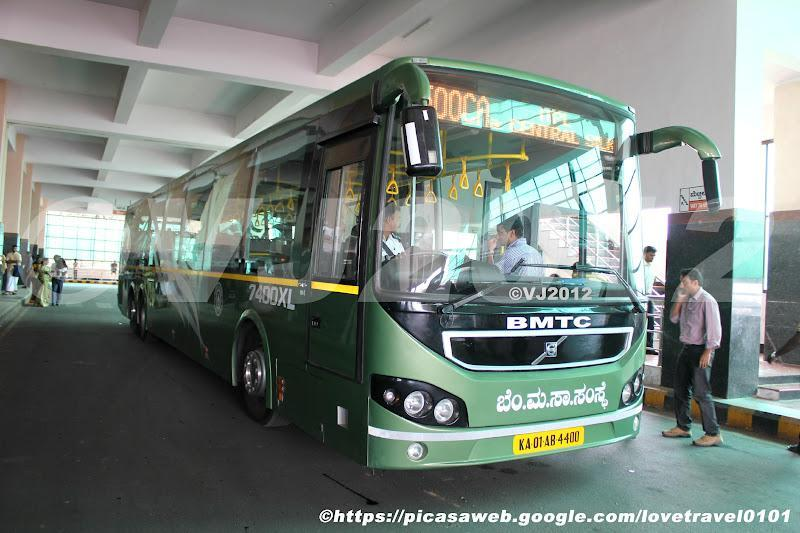Bus: (117, 58, 650, 473)
